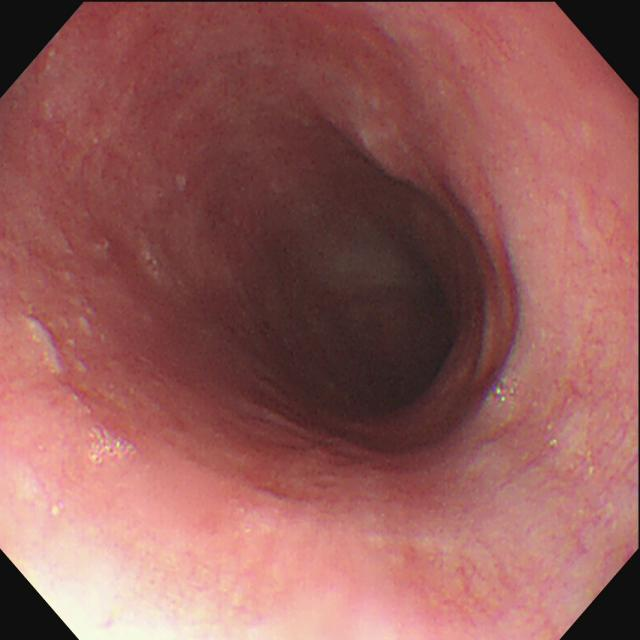E: (299, 247, 483, 452)
J: (23, 316, 93, 377)
T: (91, 425, 139, 464)
